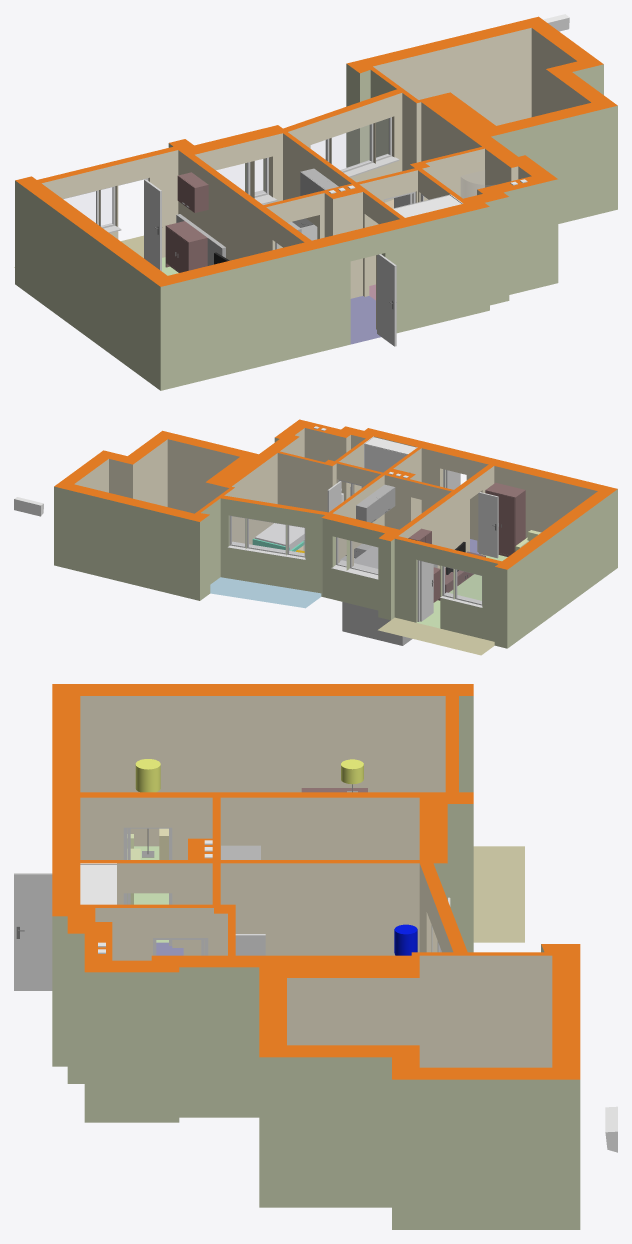
File: test_room.obj
3 renders of one model, top to bottom at view 1: azimuth 30°, elevation 25°; view 2: azimuth 150°, elevation 25°; view 3: azimuth 270°, elevation 25°, orthographic. The views are drawn at different scales.
Visible parts, largest first — view 1: Demo_plan, Cube; view 2: Demo_plan, Cube; view 3: Demo_plan.
Boxes of the visible parts, left/top/right/bottom form: Demo_plan: left=14, top=14, right=617, bottom=390; Cube: left=176, top=203, right=301, bottom=265; Demo_plan: left=14, top=419, right=617, bottom=655; Cube: left=342, top=546, right=437, bottom=645; Demo_plan: left=14, top=684, right=617, bottom=1229.
Size of the model in its own units: 15.11 by 3.52 by 9.1.
